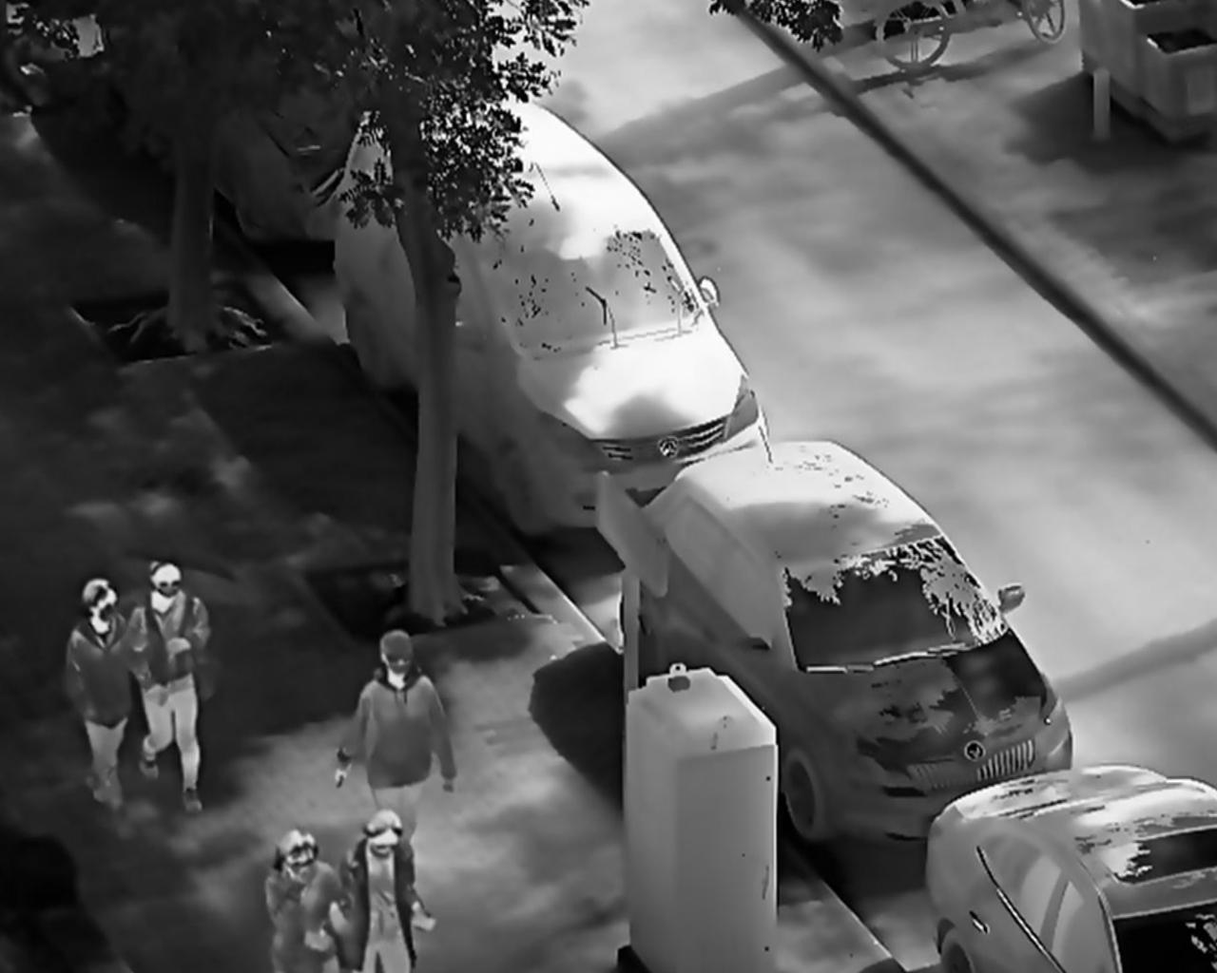person: (332, 627, 461, 852), (123, 558, 216, 816), (59, 572, 143, 817), (333, 807, 436, 973), (259, 827, 353, 973)
